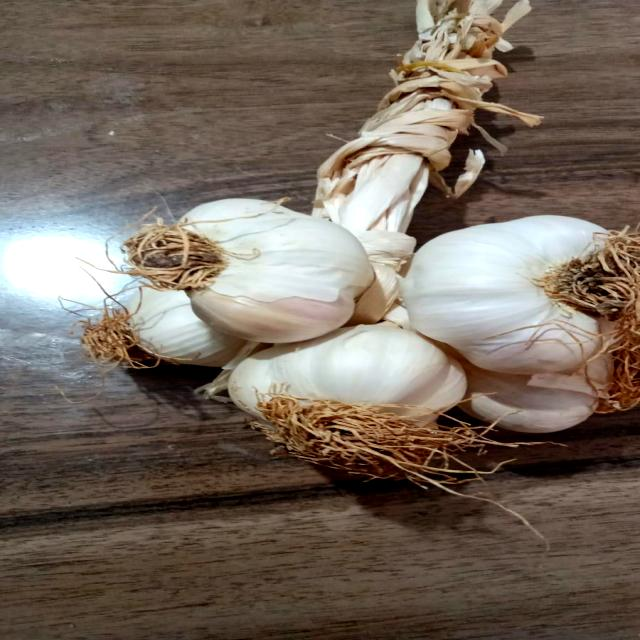garlic: (222, 301, 473, 477), (382, 212, 640, 380), (117, 188, 377, 348)
